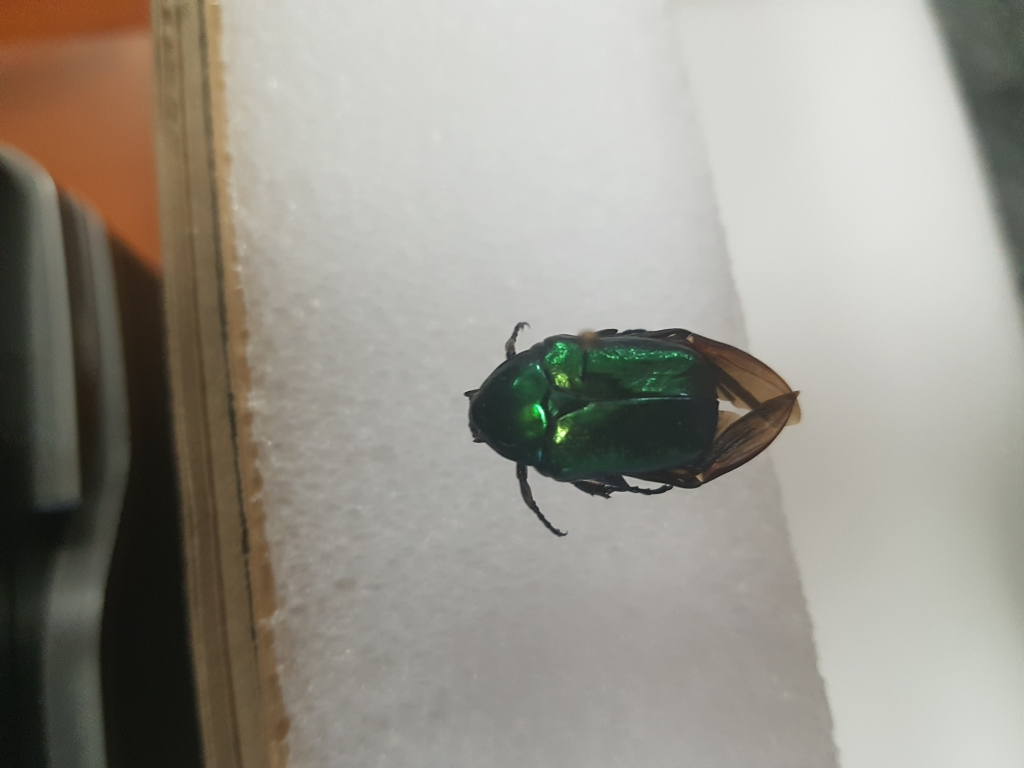Protaetia_angustata_angustata: (455, 305, 812, 533)
